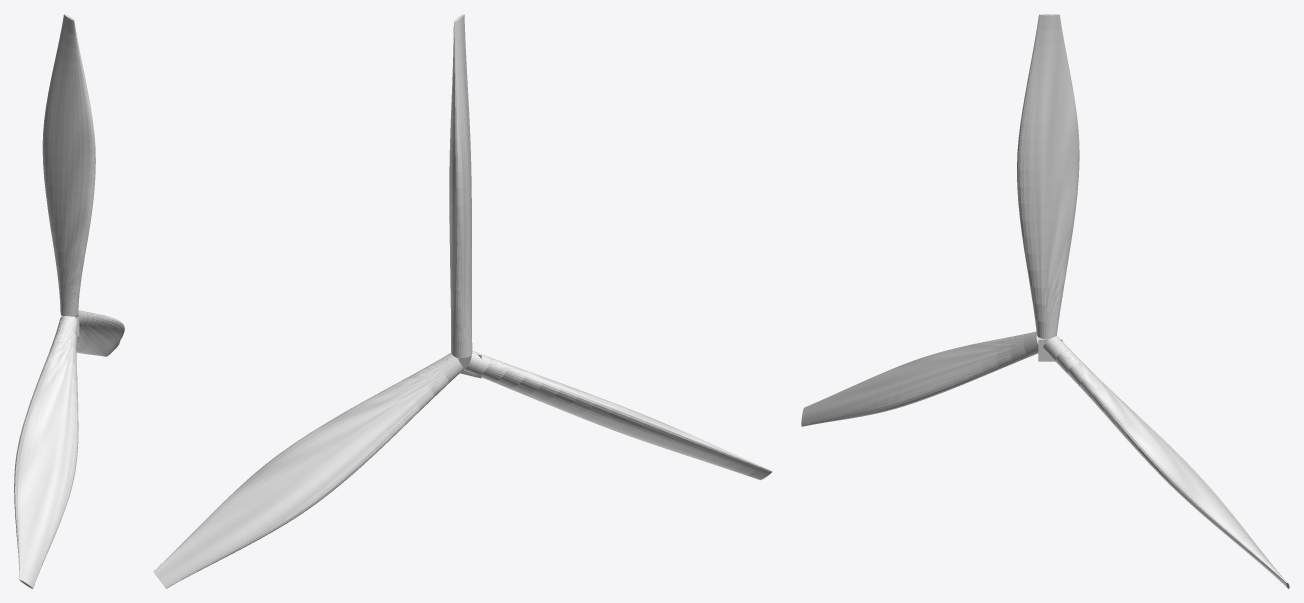
The model's file is elice1.obj.
3 views of the same model, side by side, from view 1: azimuth 30°, elevation 25°; view 2: azimuth 150°, elevation 25°; view 3: azimuth 270°, elevation 25° (orthographic). The views are drawn at different scales.
Parts seen in each view (by area): view 1: Windrad.007; view 2: Windrad.007; view 3: Windrad.007.
Boxes of the visible parts, left/top/right/bottom form: Windrad.007: left=14, top=14, right=124, bottom=588; Windrad.007: left=153, top=14, right=772, bottom=588; Windrad.007: left=801, top=14, right=1289, bottom=588.
Bounding box in the file's own units: 33.17 × 44.93 × 40.05.
1 material, 1 textured.
